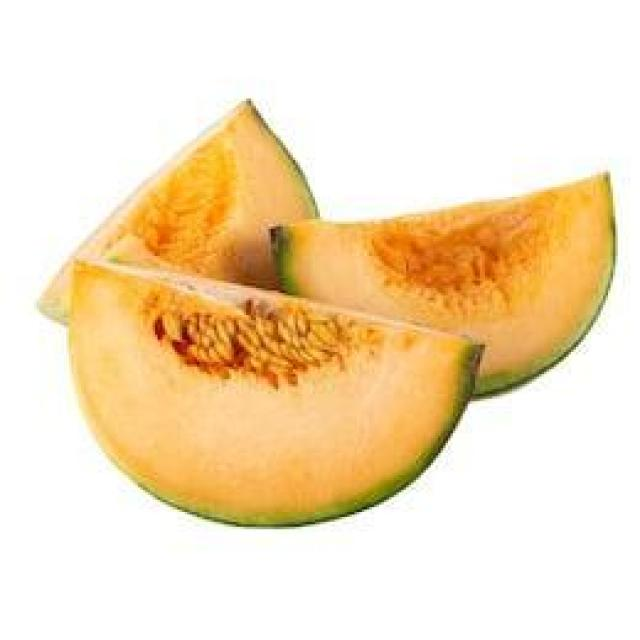cantaloupe: (69, 258, 483, 529), (273, 168, 616, 395), (35, 99, 316, 325)
